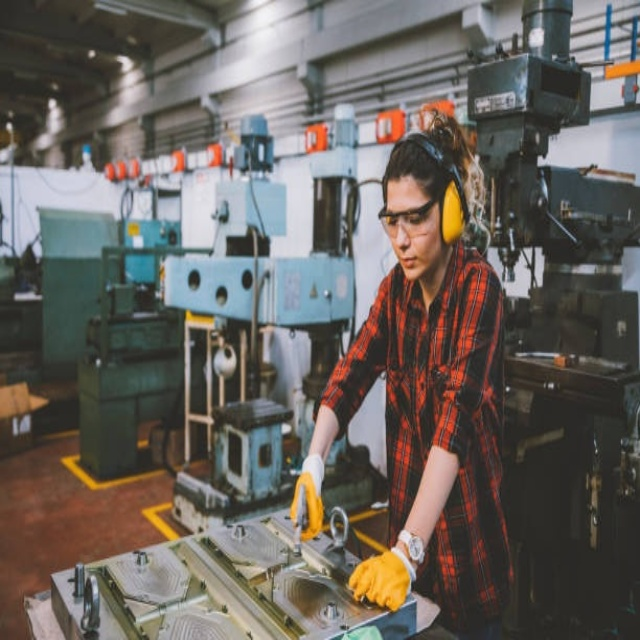Gafas: (379, 198, 441, 238)
Guantes: (348, 544, 413, 611), (290, 462, 325, 541)
Sin_mascara: (393, 245, 428, 281)
